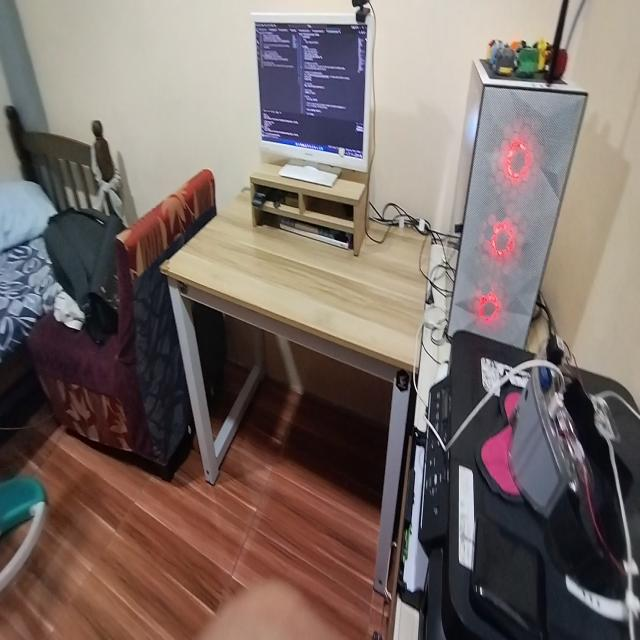table: (185, 170, 428, 576)
